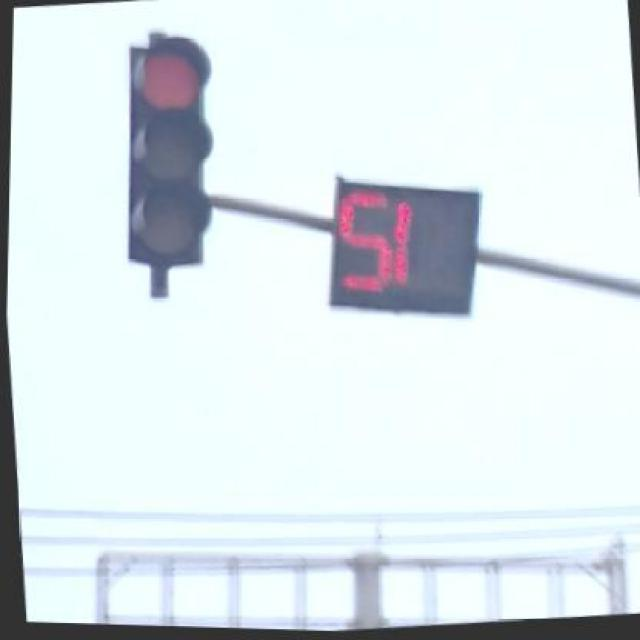red_light: (127, 31, 210, 264)
